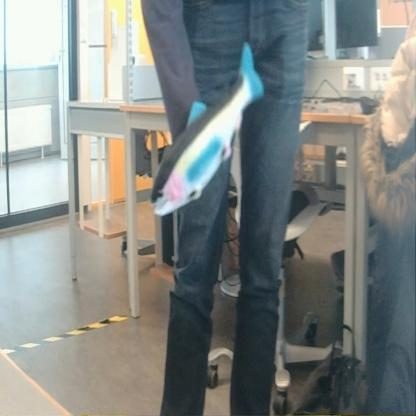rubberfish: (146, 38, 268, 226)
